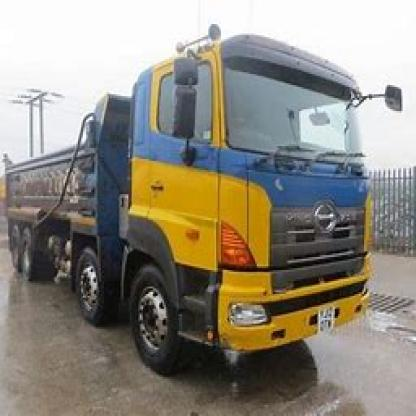dump_truck: (3, 24, 376, 381)
